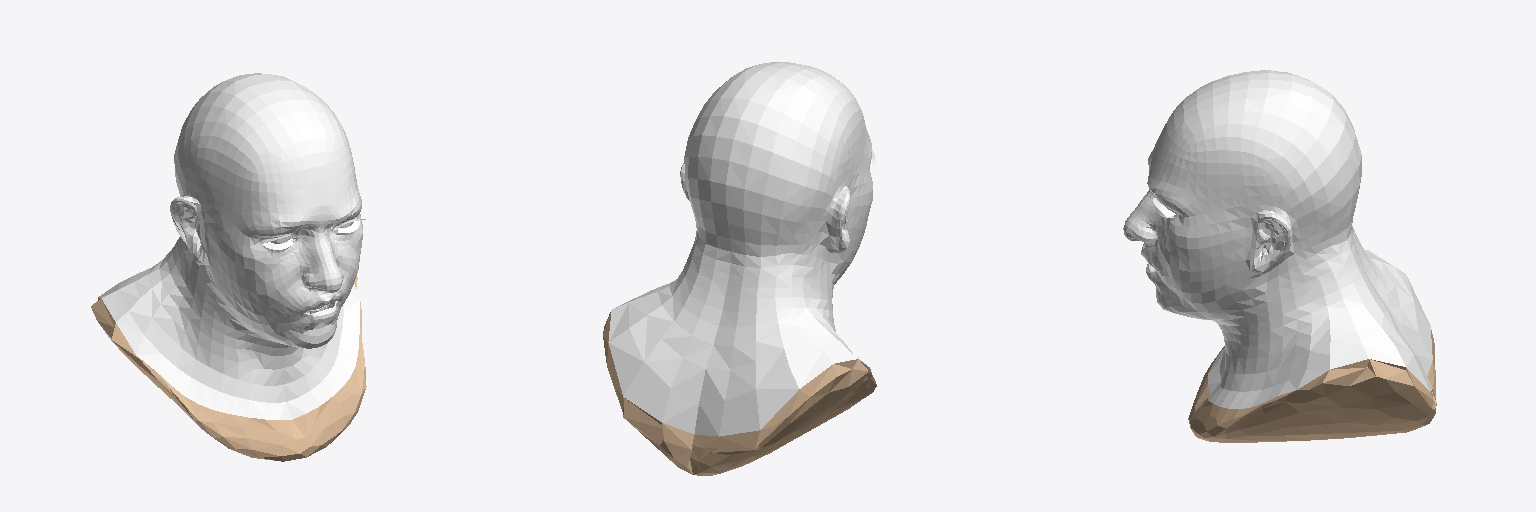
Rendered from Head_f.obj.
3 renders of one model, left to right at view 1: azimuth 30°, elevation 25°; view 2: azimuth 150°, elevation 25°; view 3: azimuth 270°, elevation 25°, orthographic.
Parts seen in each view (by area): view 1: BodyParts; view 2: BodyParts; view 3: BodyParts.
Part boxes in pixels (left/top/right/bottom): BodyParts: left=91, top=73, right=366, bottom=461; BodyParts: left=603, top=62, right=876, bottom=475; BodyParts: left=1123, top=70, right=1436, bottom=442.
Bounding box in the file's own units: 27.78 × 38.23 × 30.67.